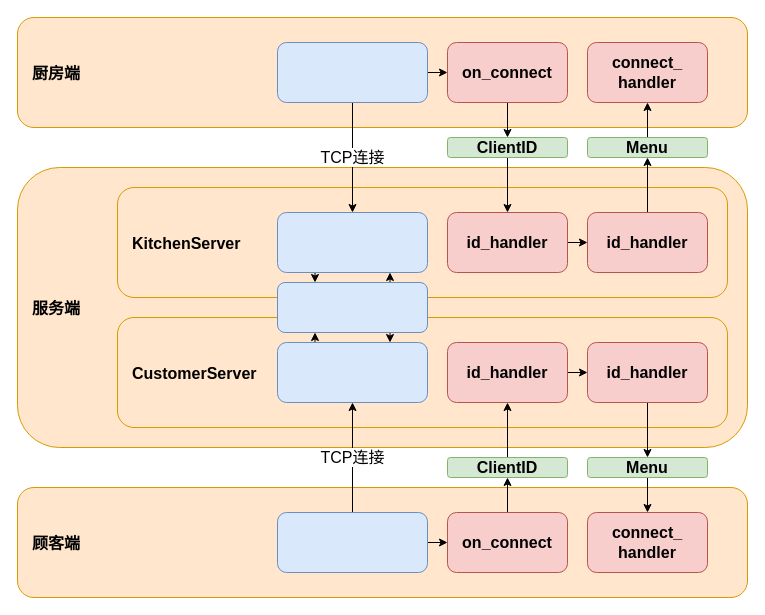
Some shapes in this 765 by 615 pixel diagram are drawn without their labels. The shapes that lost their labels are listed below. From the top down, each one's centre as x and y in pixels, then its label:
(352,72): KitchenClient
(352,242): Connected KitchenClient
(352,307): ProducerCustomer Queue
(352,372): Connected CustomerClient
(352,542): CustomerClient
